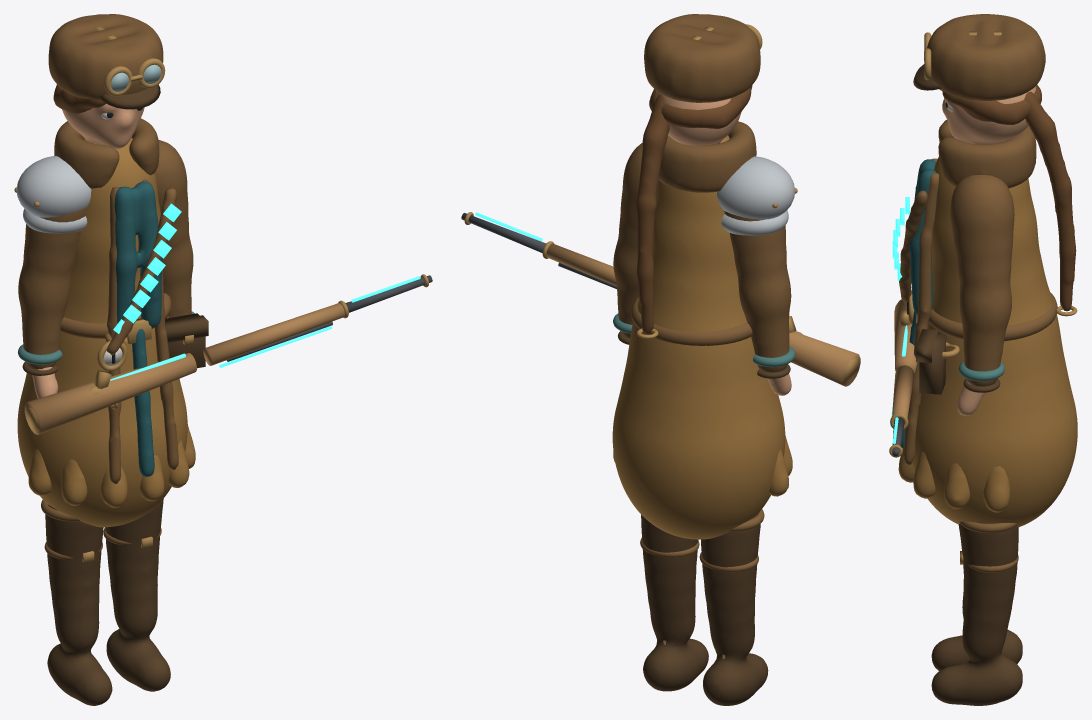
The model's file is 3D模型 char_musketeer.glb.
3 renders of one model, left to right at view 1: azimuth 30°, elevation 25°; view 2: azimuth 150°, elevation 25°; view 3: azimuth 270°, elevation 25°, orthographic.
Parts seen in each view (by area): view 1: char_musketeer_coat.001, char_musketeer_boots.001, char_musketeer_sleeves.001, char_musketeer_cap.001, char_musketeer_lining.001, char_musketeer_stock, char_musketeer_coattail.001, char_musketeer_collar.001, char_musketeer_pauldron, char_musketeer_body, char_musketeer_forestock, char_musketeer_lapel_L.001 (+10 smaller); view 2: char_musketeer_coat.001, char_musketeer_boots.001, char_musketeer_sleeves.001, char_musketeer_cap.001, char_musketeer_collar.001, char_musketeer_braid.001, char_musketeer_pauldron, char_musketeer_stock, char_musketeer_body, char_musketeer_hair.001, char_musketeer_belt, char_musketeer_forestock (+3 smaller); view 3: char_musketeer_coat.001, char_musketeer_boots.001, char_musketeer_sleeves.001, char_musketeer_cap.001, char_musketeer_collar.001, char_musketeer_braid.001, char_musketeer_coattail.001, char_musketeer_lapel_R.001, char_musketeer_body, char_musketeer_hair.001, char_musketeer_belt, char_musketeer_lining.001 (+8 smaller).
Part boxes in pixels (x1,y1,x2,y2): char_musketeer_coat.001: (17, 137, 187, 527); char_musketeer_boots.001: (45, 499, 170, 705); char_musketeer_sleeves.001: (18, 139, 193, 369); char_musketeer_cap.001: (48, 14, 163, 99); char_musketeer_lining.001: (114, 181, 162, 329); char_musketeer_stock: (24, 353, 196, 434); char_musketeer_coattail.001: (28, 424, 195, 507); char_musketeer_collar.001: (54, 118, 159, 188); char_musketeer_pauldron: (16, 156, 91, 217); char_musketeer_body: (32, 103, 144, 398); char_musketeer_forestock: (203, 303, 344, 365); char_musketeer_lapel_L.001: (107, 187, 121, 483); char_musketeer_coat.001: (612, 135, 785, 539); char_musketeer_boots.001: (641, 512, 768, 705); char_musketeer_sleeves.001: (613, 143, 791, 372); char_musketeer_cap.001: (644, 14, 760, 102); char_musketeer_collar.001: (658, 121, 756, 192); char_musketeer_braid.001: (636, 94, 669, 333); char_musketeer_pauldron: (717, 156, 794, 219); char_musketeer_stock: (789, 332, 860, 386); char_musketeer_body: (656, 91, 791, 658); char_musketeer_hair.001: (649, 85, 752, 128); char_musketeer_belt: (630, 297, 752, 345); char_musketeer_forestock: (546, 243, 616, 285); char_musketeer_coat.001: (912, 137, 1077, 526); char_musketeer_boots.001: (931, 522, 1022, 705); char_musketeer_sleeves.001: (950, 175, 1014, 386); char_musketeer_cap.001: (927, 14, 1045, 100); char_musketeer_collar.001: (938, 120, 1036, 188); char_musketeer_braid.001: (1024, 91, 1076, 311); char_musketeer_coattail.001: (898, 443, 1010, 512); char_musketeer_lapel_R.001: (904, 173, 938, 465); char_musketeer_body: (942, 86, 1035, 415); char_musketeer_hair.001: (942, 85, 1041, 124); char_musketeer_belt: (928, 292, 1057, 341); char_musketeer_lining.001: (909, 159, 936, 315).
Bounding box in the file's own units: 1.14 × 1.81 × 0.4706.
